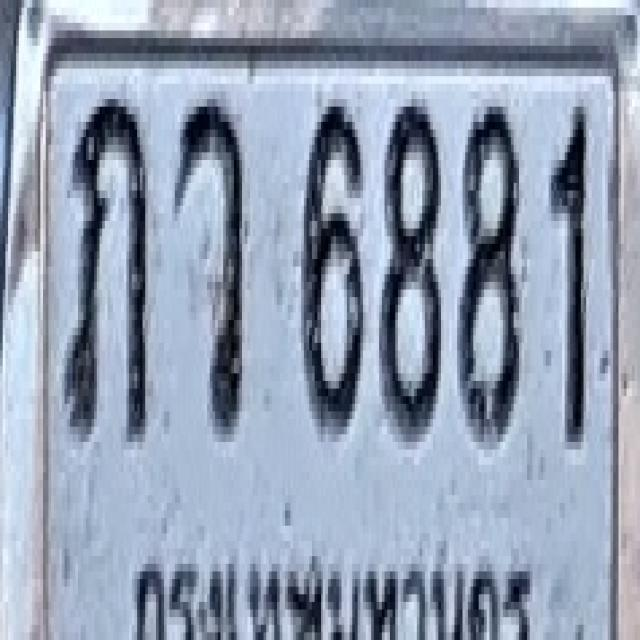1: (549, 103, 586, 446)
6: (301, 99, 363, 434)
8: (457, 99, 519, 442), (379, 95, 441, 438)
A32: (64, 91, 148, 442)
A37: (174, 92, 244, 434)
